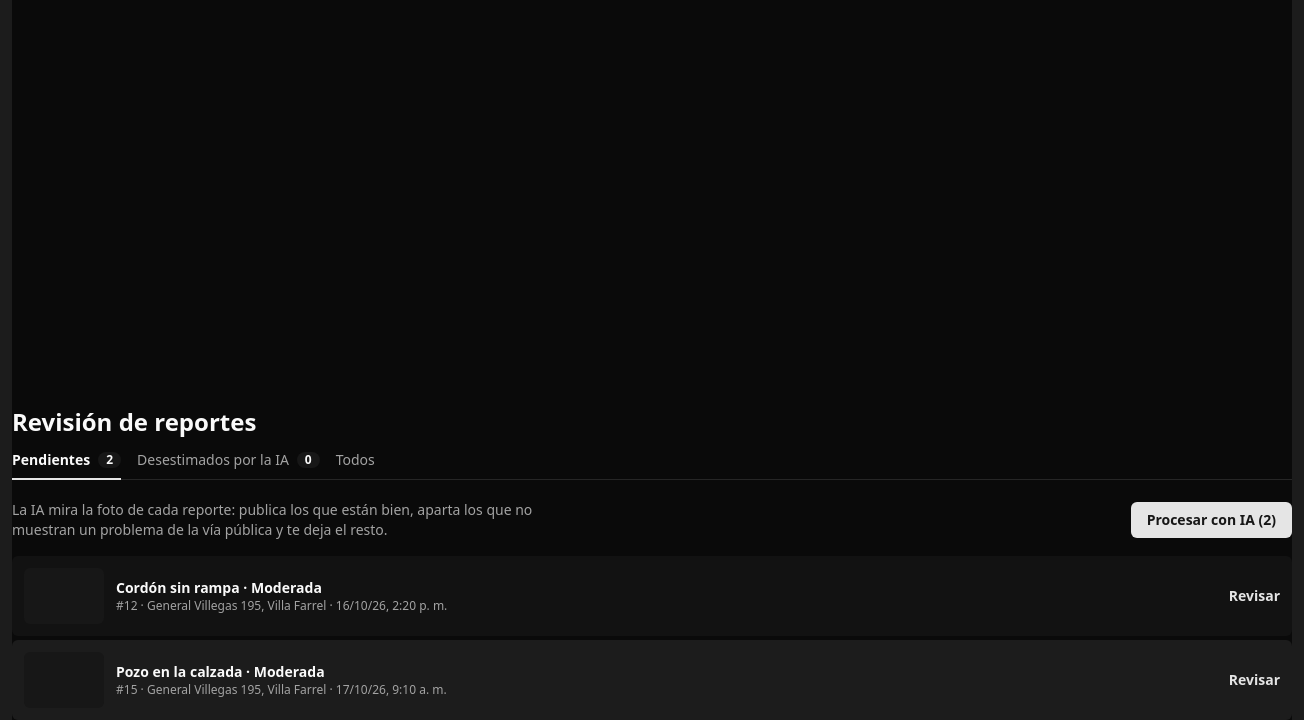
it: procesar con IA › si no se puede procesar, lo dice
This screenshot has width=1304, height=720.
(page scrolled)
Click the button "Procesar con IA (2)": x=1211, y=520 [1131,502,1292,538]
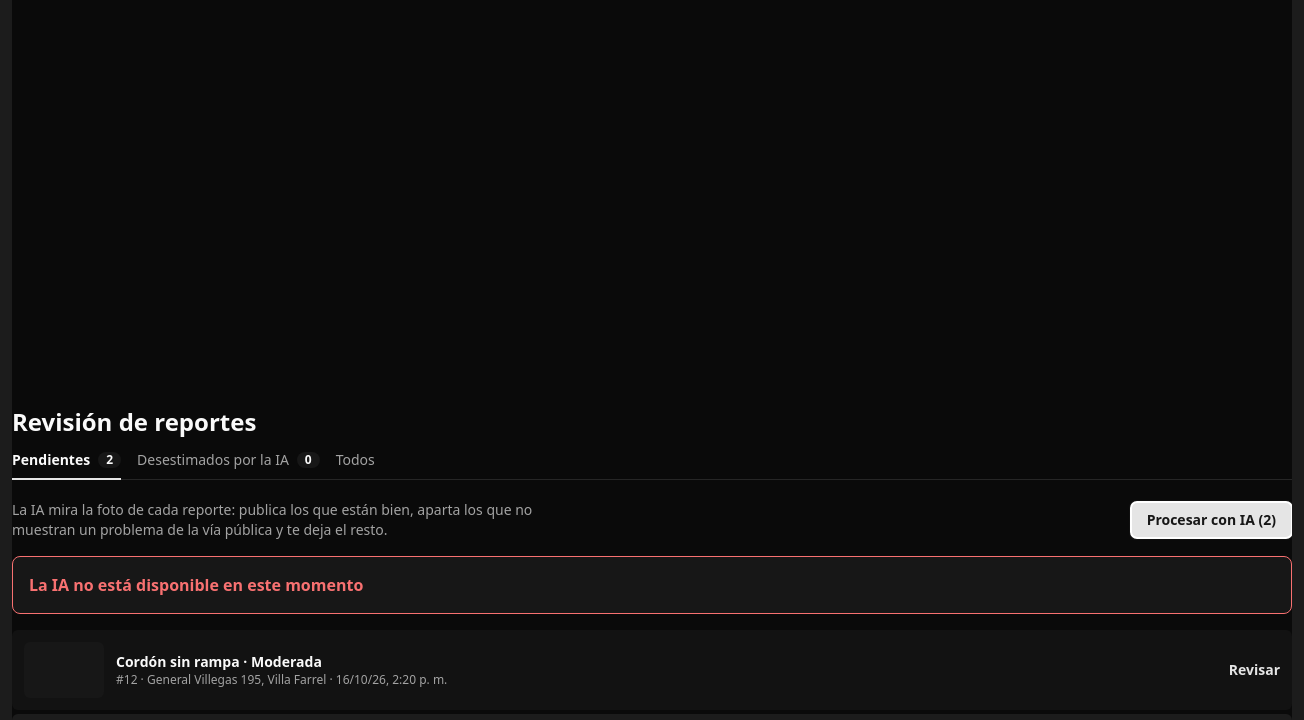
Check: the text "La IA no está disponible en este momento" is shown, box [29,574,363,596]
